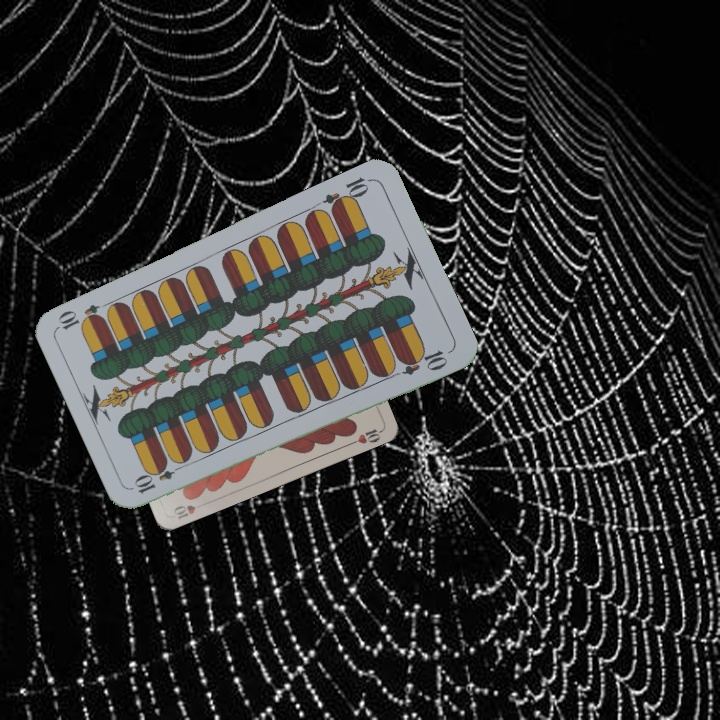E10: (319, 173, 375, 215), (130, 458, 187, 497)
H10: (169, 498, 209, 522)
